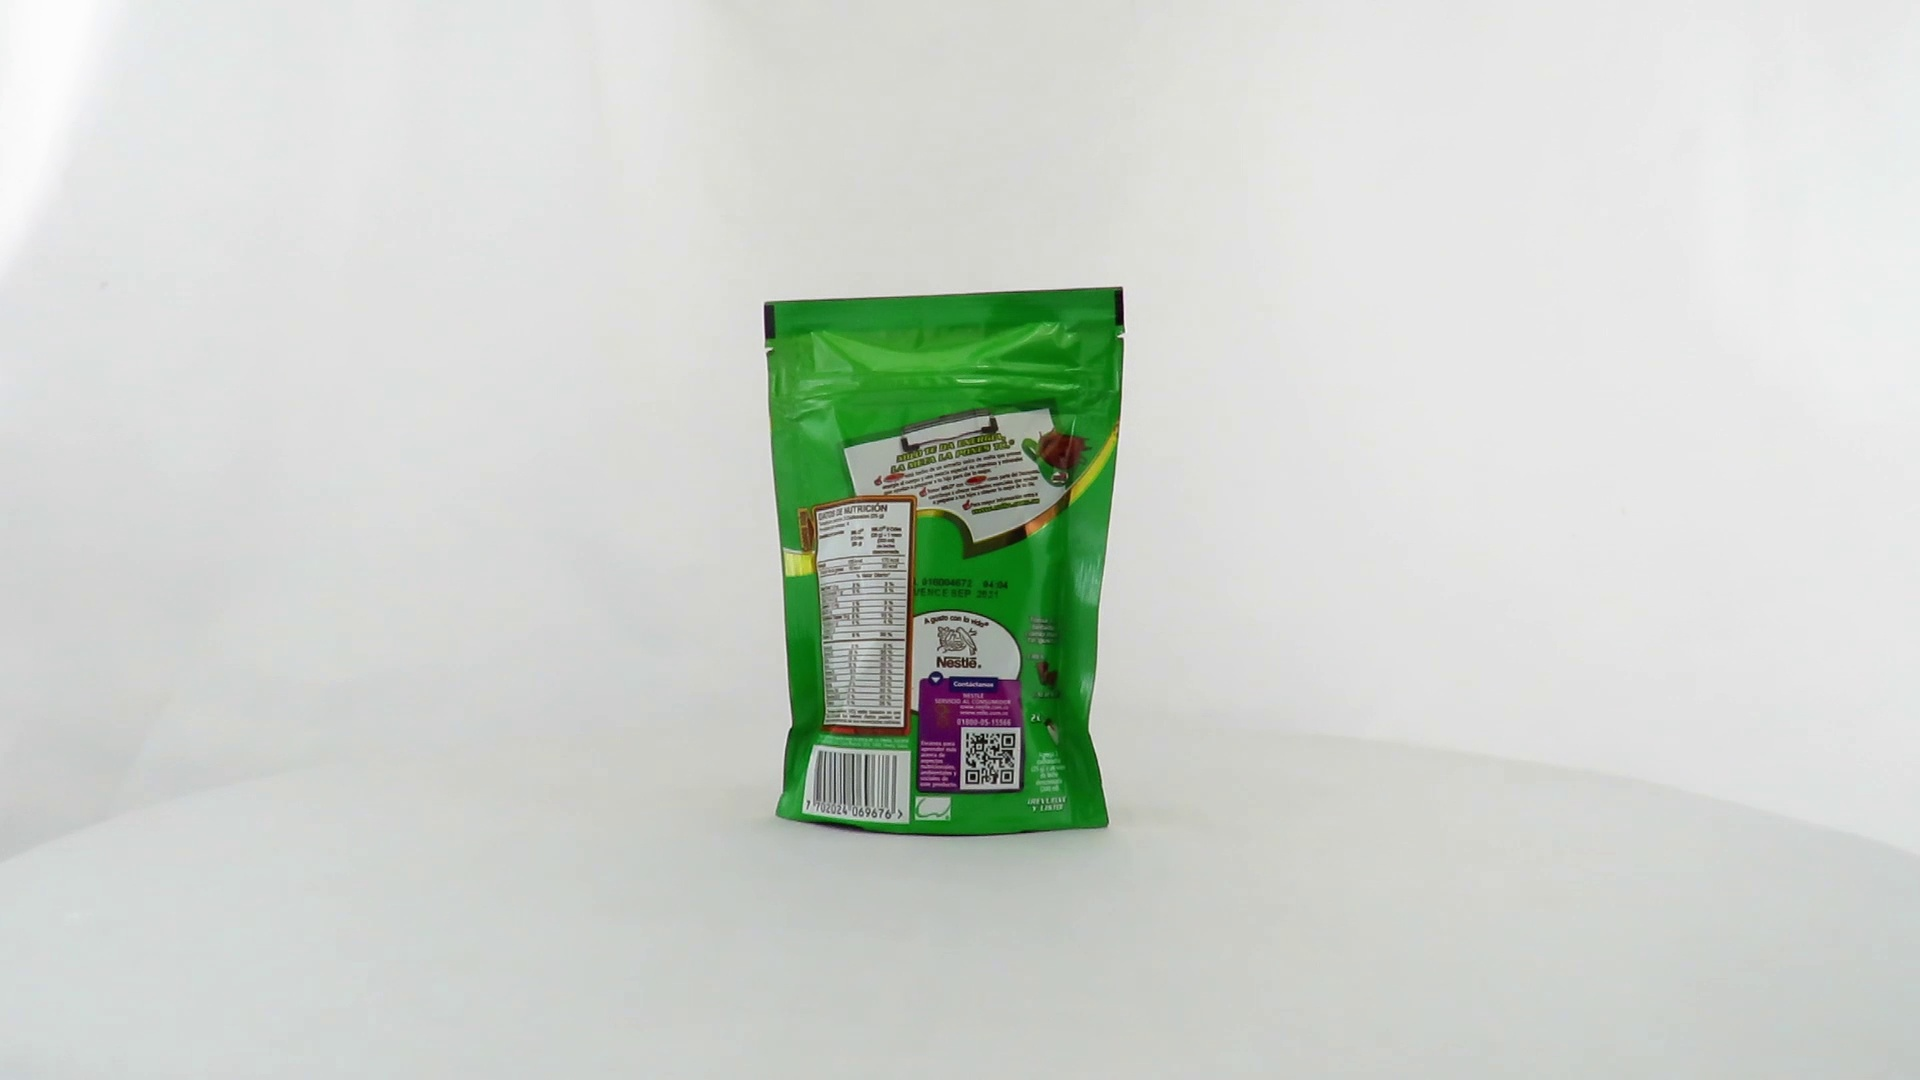COL0170203DYP10000: (760, 281, 1131, 843)
